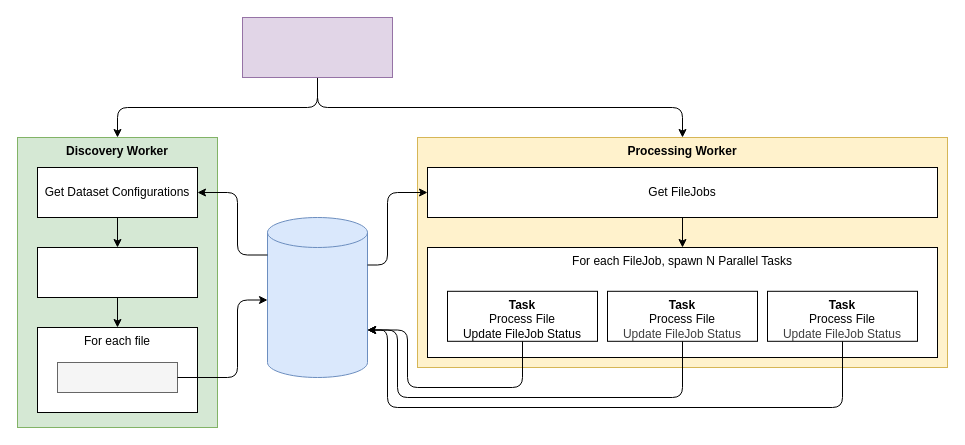
Some shapes in this 965 by 445 pixel diagram are drawn without their labels. The centre of each missing label's shape, as x and y in pixels:
"Create FileJob" belongs at point (117, 377).
"Database" belongs at point (317, 297).
"Pipeline.Worker (BackgroundService)" belongs at point (317, 47).
"Search Directories" belongs at point (117, 272).
